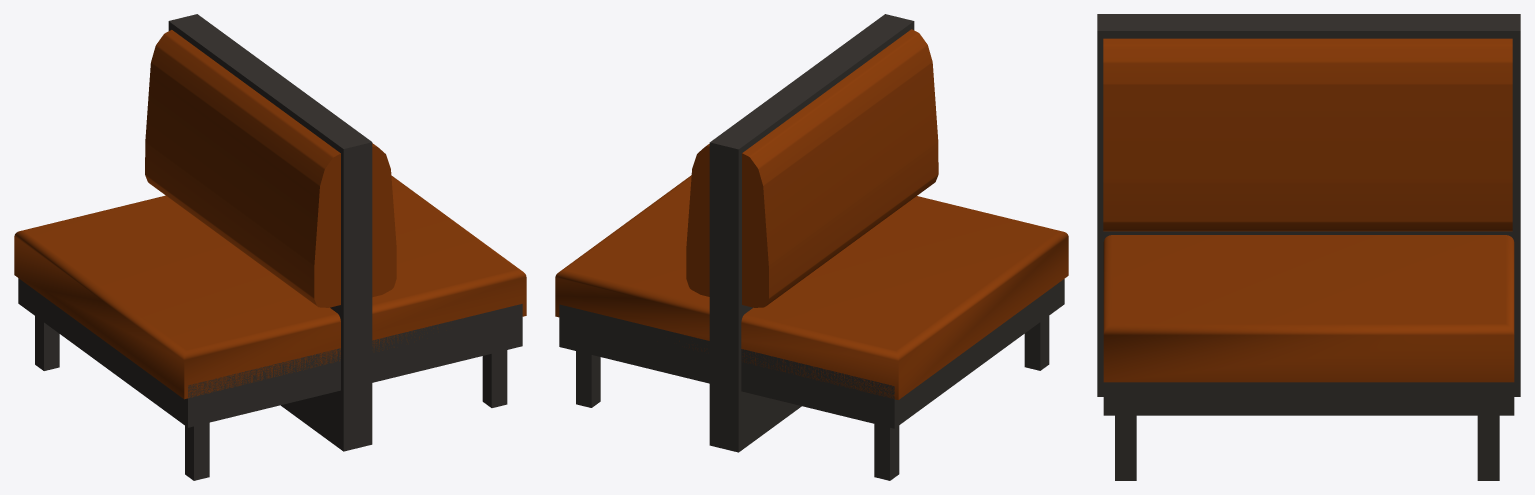
Rendered from booth_doble__827df15e0014.glb.
3 renders of one model, left to right at view 1: azimuth 30°, elevation 25°; view 2: azimuth 150°, elevation 25°; view 3: azimuth 270°, elevation 25°, orthographic. The views are drawn at different scales.
Parts seen in each view (by area): view 1: seat, backrest, spine, apron, leg.001, leg.003, leg.004; view 2: seat, backrest, spine, apron, leg.004, leg.002, leg.003; view 3: backrest, seat, spine, apron, leg.002, leg.001.
Part boxes in pixels (x1,y1,x2,y2): seat: [14, 175, 526, 399]; backrest: [145, 30, 396, 307]; spine: [168, 14, 372, 451]; apron: [18, 278, 522, 427]; leg.001: [482, 350, 507, 407]; leg.003: [185, 422, 209, 480]; leg.004: [35, 316, 59, 370]; seat: [555, 175, 1068, 399]; backrest: [686, 29, 938, 307]; spine: [709, 14, 914, 452]; apron: [559, 279, 1064, 428]; leg.004: [874, 424, 899, 480]; leg.002: [576, 351, 600, 407]; leg.003: [1024, 316, 1049, 370]; backrest: [1103, 38, 1512, 231]; seat: [1103, 235, 1514, 382]; spine: [1097, 14, 1520, 396]; apron: [1103, 382, 1514, 415]; leg.002: [1477, 415, 1499, 480]; leg.001: [1115, 415, 1136, 480].
Size of the model in its own units: 1.4 by 1.18 by 1.24.
